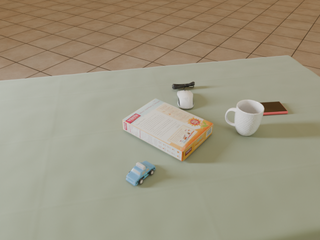box: (123, 99, 213, 161)
cup: (225, 100, 264, 136)
mouse: (177, 90, 194, 109)
phone: (261, 102, 288, 115)
toy_car: (126, 161, 156, 186)
